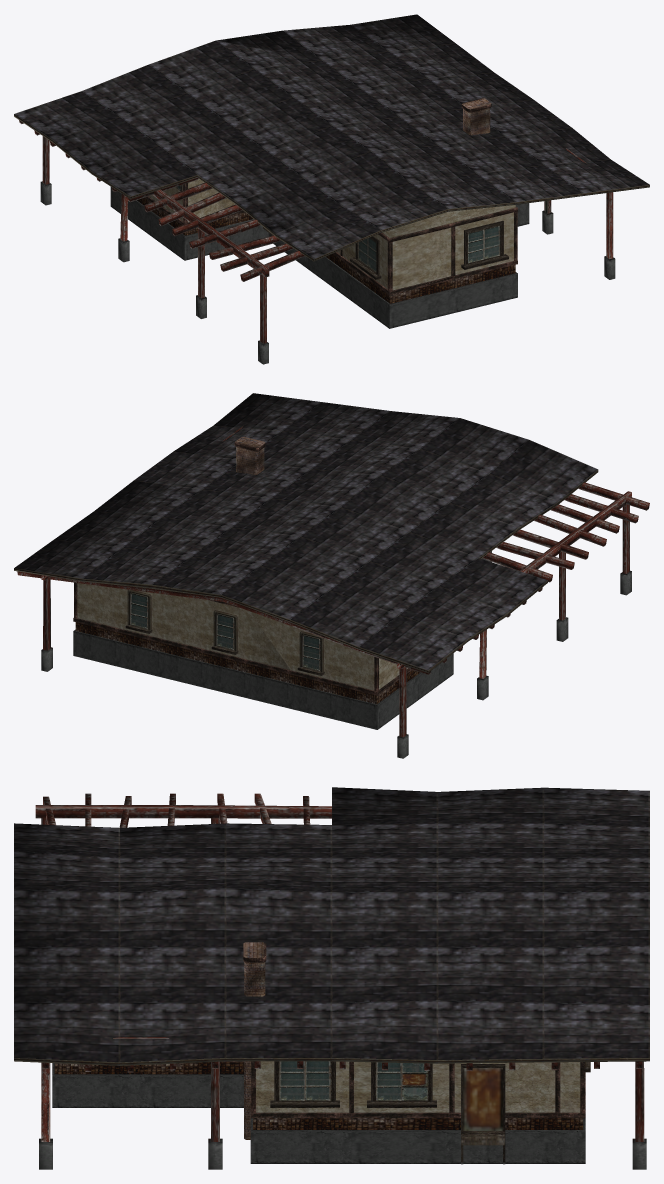
The model's file is RundownHouse.obj.
The picture shows the model from 3 angles, top to bottom: view 1: azimuth 30°, elevation 25°; view 2: azimuth 150°, elevation 25°; view 3: azimuth 270°, elevation 25°; orthographic projection. The views are drawn at different scales.
Parts seen in each view (by area): view 1: __PrenotatoPerDuplicare_11, __PrenotatoPerDuplicare_7, __PrenotatoPerDuplicare_8; view 2: __PrenotatoPerDuplicare_11, __PrenotatoPerDuplicare_5; view 3: __PrenotatoPerDuplicare_11, __PrenotatoPerDuplicare_6.
Boxes of the visible parts, x1,y1,x2,y2 form: __PrenotatoPerDuplicare_11: [14, 14, 649, 364]; __PrenotatoPerDuplicare_7: [461, 220, 508, 269]; __PrenotatoPerDuplicare_8: [350, 236, 381, 279]; __PrenotatoPerDuplicare_11: [14, 393, 649, 758]; __PrenotatoPerDuplicare_5: [125, 589, 324, 675]; __PrenotatoPerDuplicare_11: [14, 787, 649, 1169]; __PrenotatoPerDuplicare_6: [270, 1061, 436, 1107].
Size of the model in its own units: 1364 by 426 by 1364.
